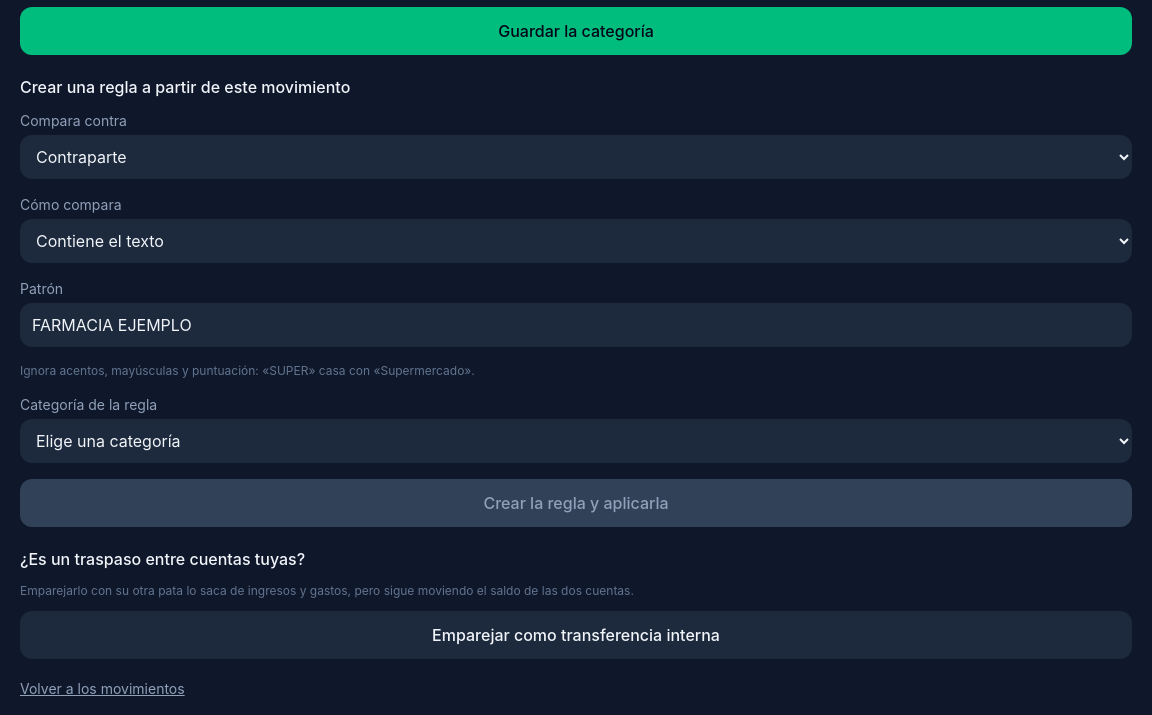
Scenario: TransactionScreen · crear una regla › la crea y enseña a cuántos movimientos ha alcanzado
The image size is (1152, 715).
(page scrolled)
Select "Salud" in the dropdown labelled "Categoría de la regla": (576, 441) [20,419,1132,463]
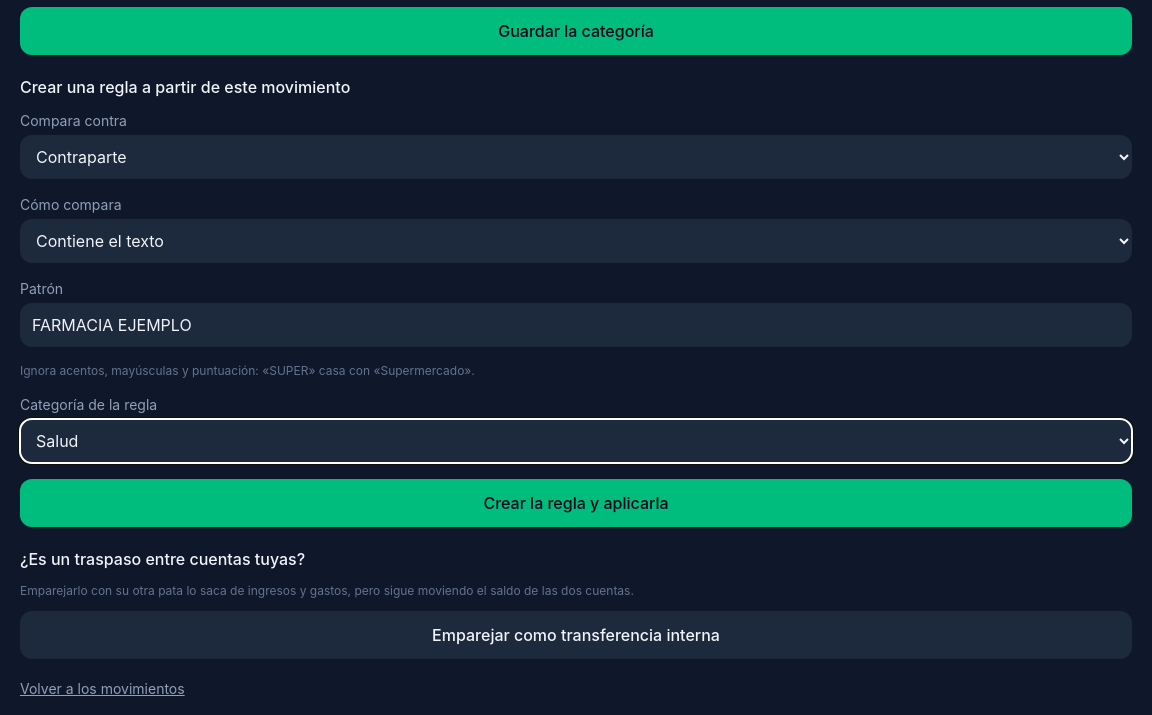
Click the button "Crear la regla y aplicarla": (576, 503) [20,479,1132,527]
(page scrolled)
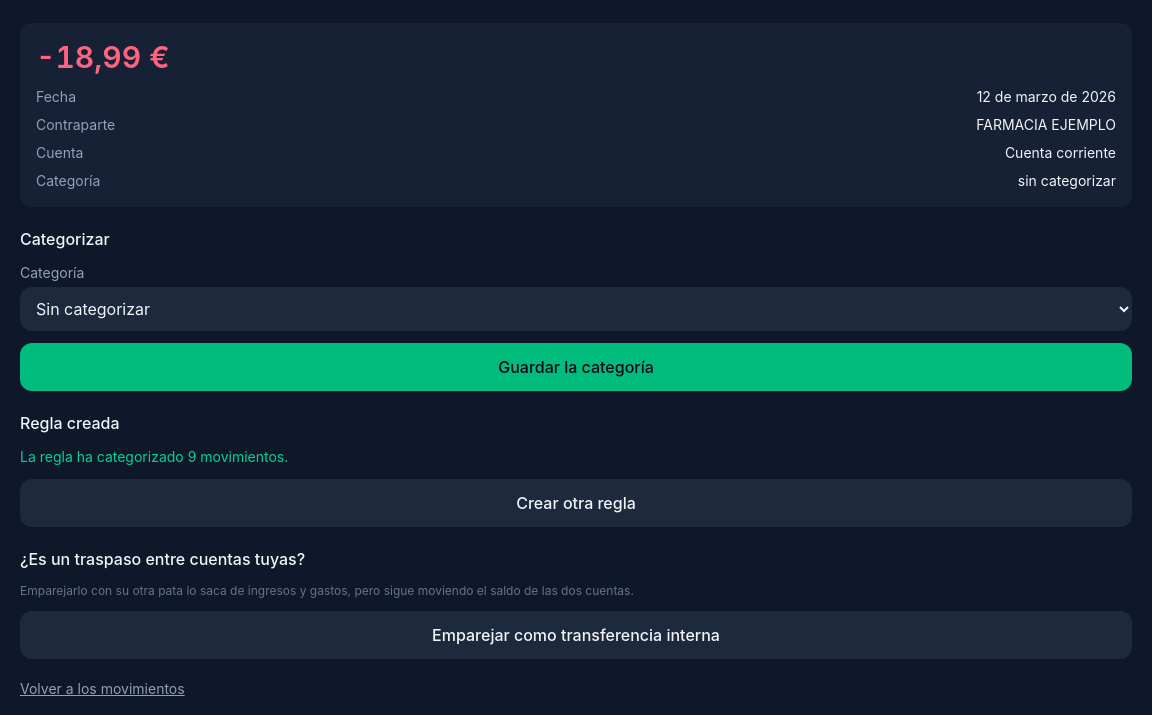
Expected: the text "La regla ha categorizado 9 movimientos." is shown, [20,448,288,465]
